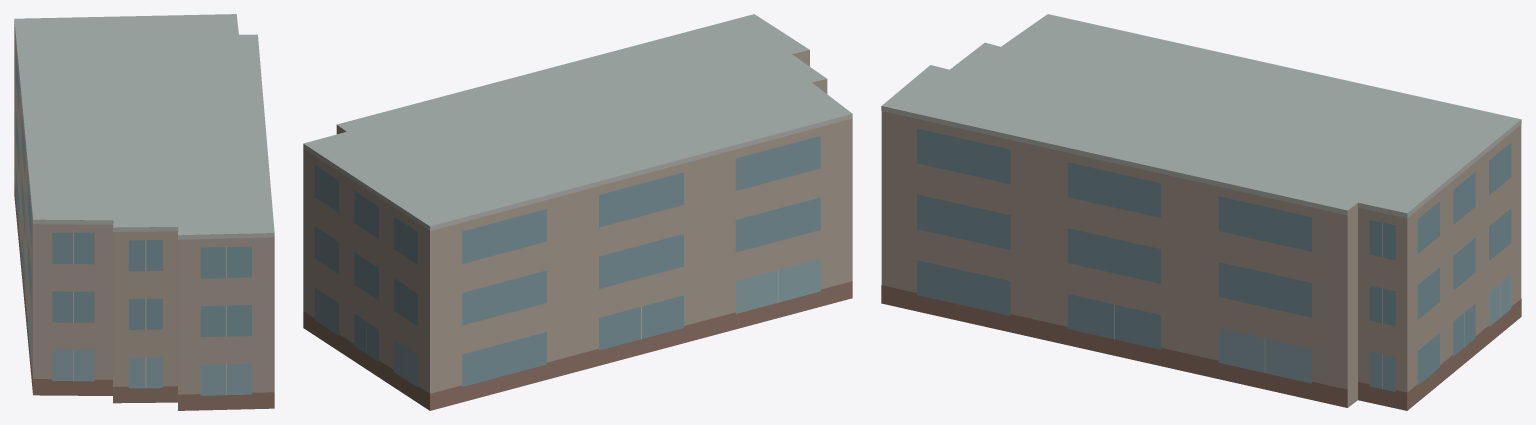
The model's file is survey-upis-32525868.glb.
The picture shows the model from 3 angles, left to right: view 1: azimuth 30°, elevation 25°; view 2: azimuth 150°, elevation 25°; view 3: azimuth 270°, elevation 25°; orthographic projection. The views are drawn at different scales.
Visible parts, largest first — view 1: survey-upis-32525868.tmp; view 2: survey-upis-32525868.tmp; view 3: survey-upis-32525868.tmp.
Boxes of the visible parts, x1=… form: survey-upis-32525868.tmp: x1=14, y1=14, x2=274, y2=410; survey-upis-32525868.tmp: x1=303, y1=14, x2=852, y2=410; survey-upis-32525868.tmp: x1=881, y1=14, x2=1521, y2=410.
Bounding box in the file's own units: 21.01 × 9.7 × 28.49.
